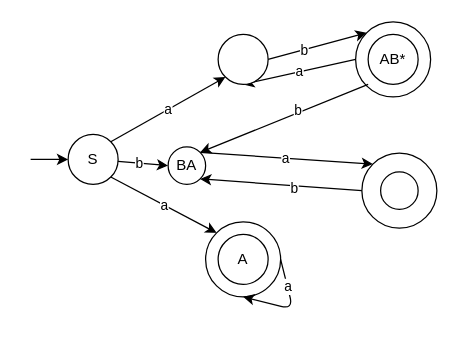
The diagram is 459 pixels wide and 341 high, and some of its shapes have lost their labels. The shapes that lost their labels are listed below. From the top down, each one's box as (x1, y1, x2, y2) in pixels, then its label:
(217, 33, 268, 84): AB
(379, 171, 418, 209): BA*
